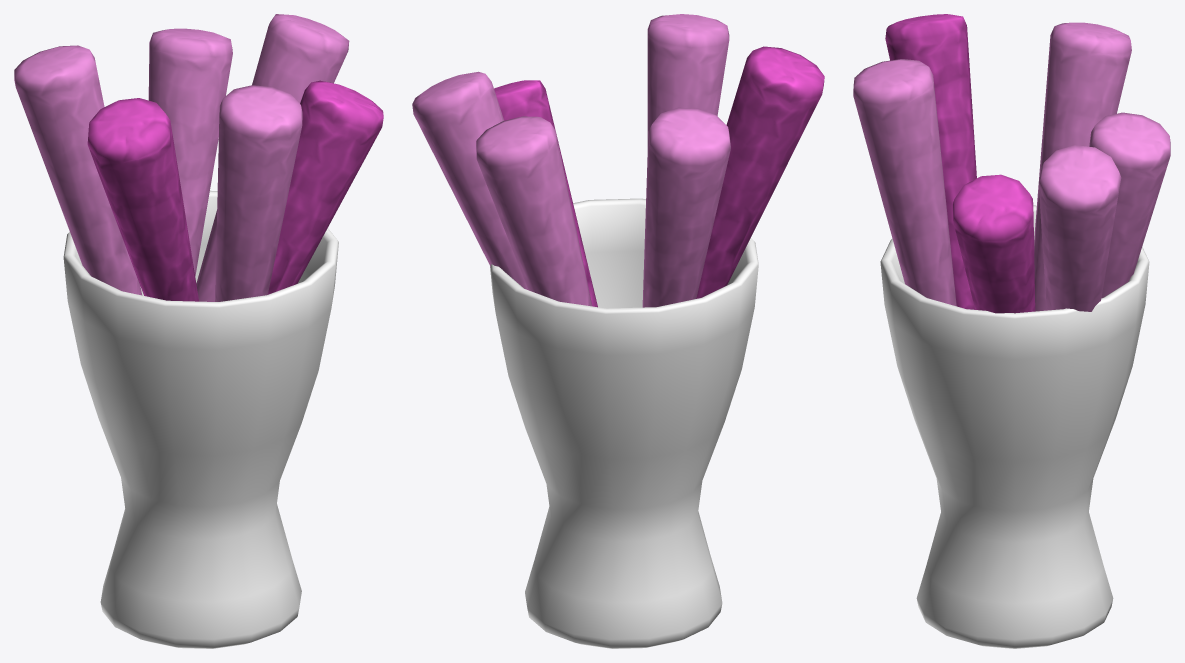
The model's file is BuffetCandy01_6.FBX.
3 renders of one model, left to right at view 1: azimuth 30°, elevation 25°; view 2: azimuth 150°, elevation 25°; view 3: azimuth 270°, elevation 25°, orthographic. The views are drawn at different scales.
Visible parts, largest first — view 1: BuffetCandy01_6; view 2: BuffetCandy01_6; view 3: BuffetCandy01_6.
Part boxes in pixels (x1=…): BuffetCandy01_6: x1=14, y1=14, x2=383, y2=648; BuffetCandy01_6: x1=412, y1=14, x2=824, y2=648; BuffetCandy01_6: x1=853, y1=14, x2=1170, y2=648.
Size of what is drawn, in the model's own units: 0.1685 by 0.2755 by 0.1452.
